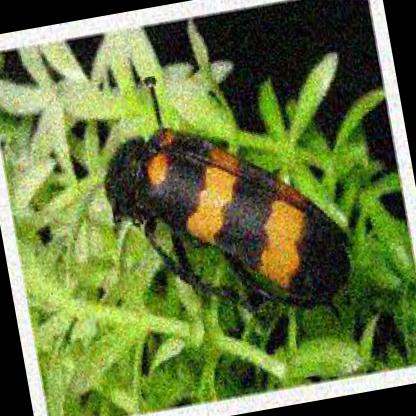blister beetle: (107, 75, 353, 305)
